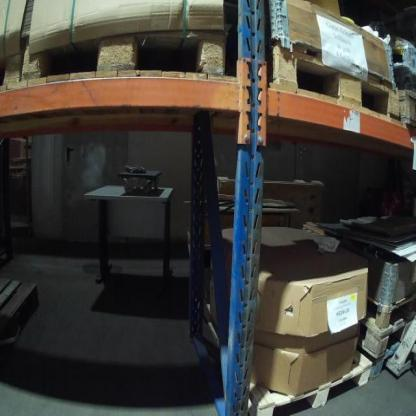pallets: (1, 30, 412, 132), (245, 286, 415, 415)
